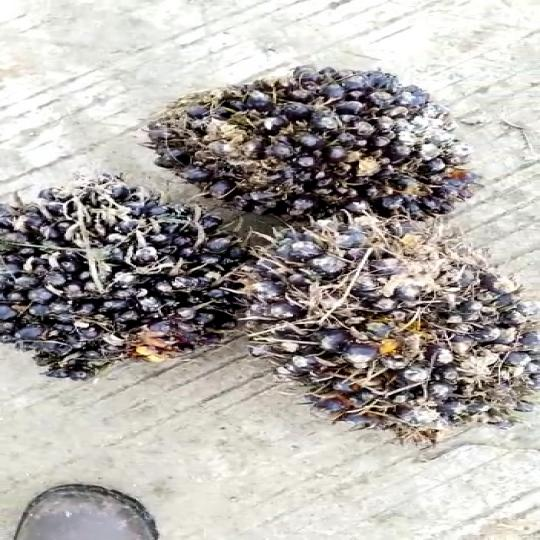mentah: (254, 218, 540, 453), (136, 62, 490, 229), (0, 176, 258, 375)
